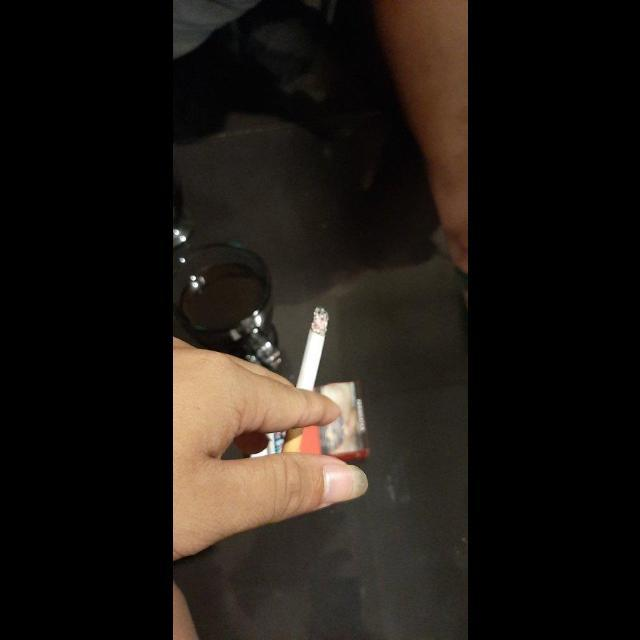rokok: (292, 305, 330, 395)
